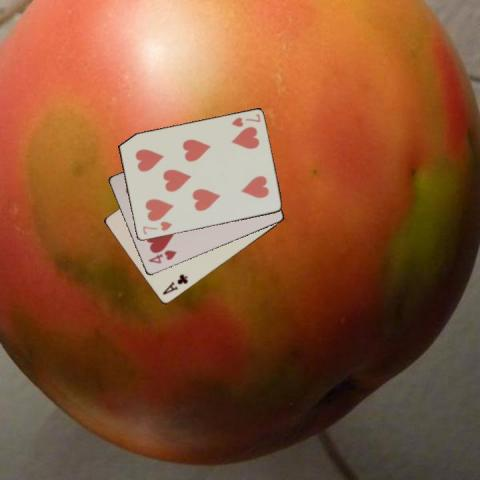4h: (145, 248, 178, 266)
7h: (228, 111, 262, 129), (140, 219, 174, 236)
Ac: (160, 271, 190, 297)
